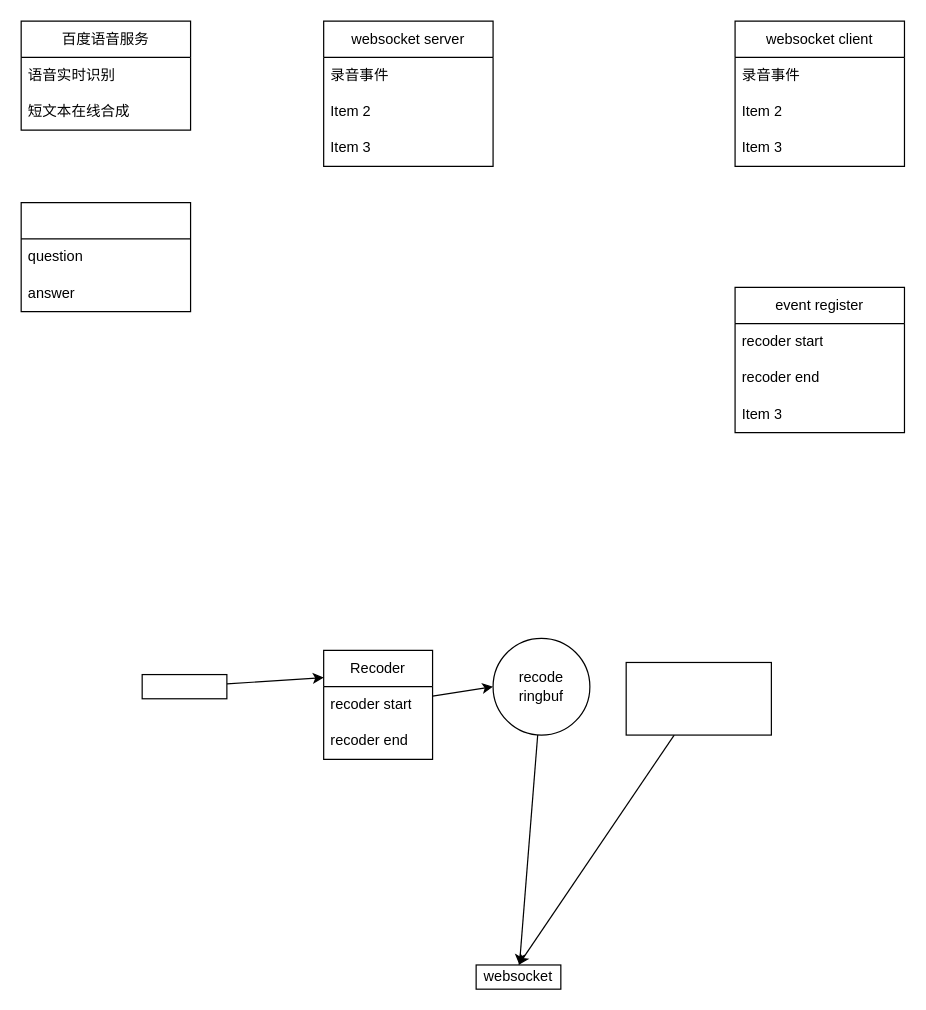
The diagram is 926 pixels wide and 1010 high, and some of its shapes have lost their labels. The box of each missing label's shape, as (x1, y1, x2, y2) in pixels:
eventgroup: (625, 661, 771, 735)
Gui: (141, 673, 227, 699)
openai assistant: (20, 201, 191, 312)
